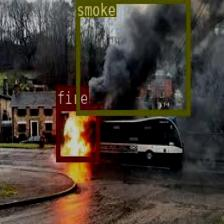fire: (56, 104, 98, 161)
smoke: (75, 0, 189, 114)
